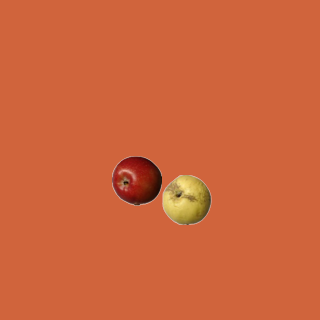Apple Braeburn: (111, 155, 161, 205)
Apple Golden 1: (161, 174, 211, 224)
